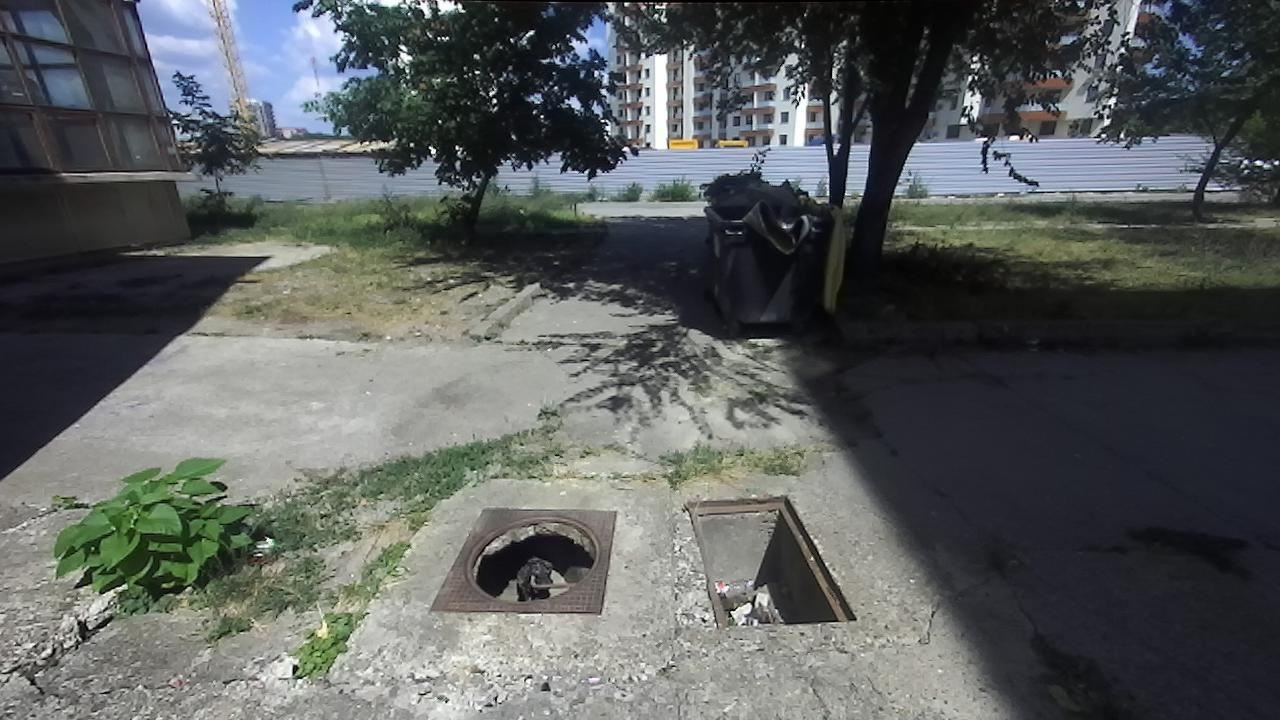drain: (679, 491, 860, 628), (455, 512, 601, 607)
